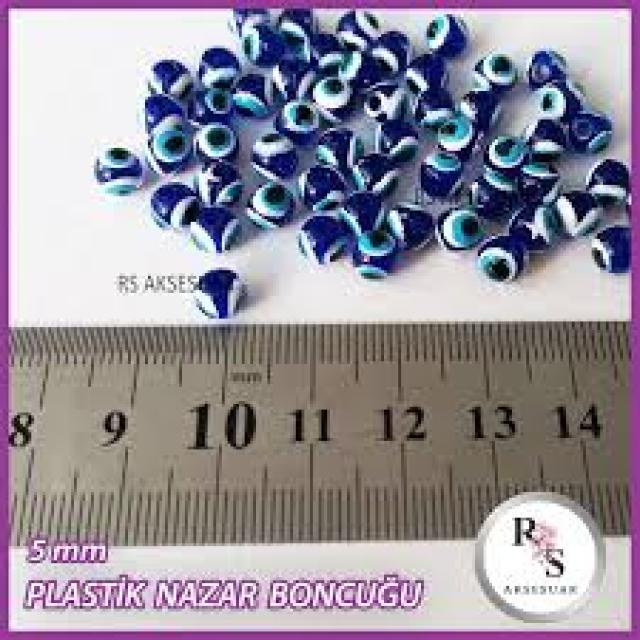Nazar-Boncugu: (96, 146, 144, 199)
